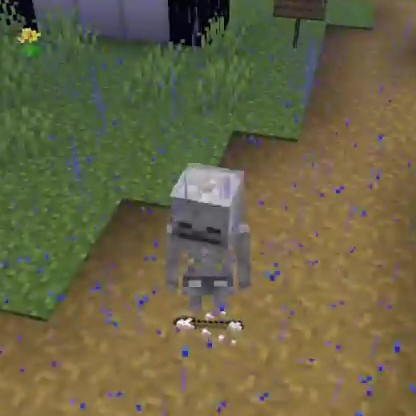skeleton: (160, 160, 250, 317)
